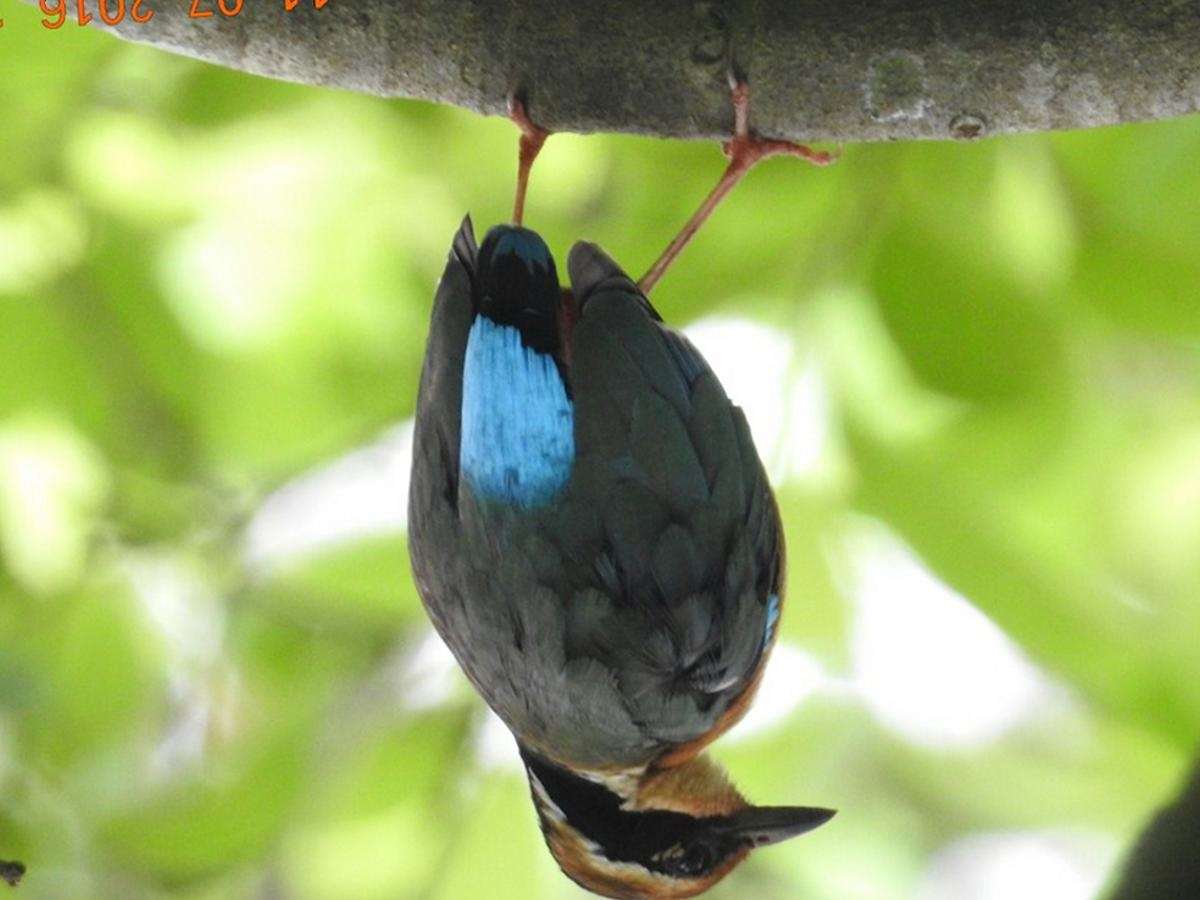pitta: (299, 132, 846, 900)
